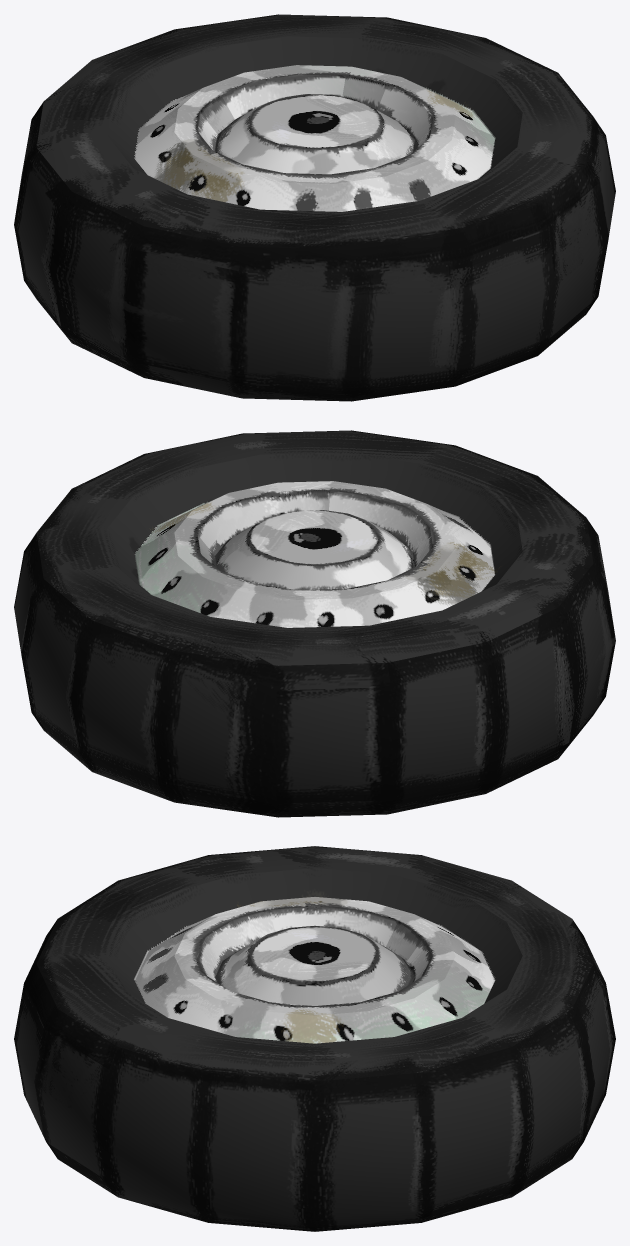
The model's file is P_TIRES.fbx.
3 renders of one model, top to bottom at view 1: azimuth 30°, elevation 25°; view 2: azimuth 150°, elevation 25°; view 3: azimuth 270°, elevation 25°, orthographic.
Visible parts, largest first — view 1: ban; view 2: ban; view 3: ban.
Part boxes in pixels (x1,y1,x2,y2): ban: [14, 14, 615, 401]; ban: [14, 430, 615, 817]; ban: [14, 846, 615, 1231].
Bounding box in the file's own units: 210 × 64.92 × 210.
1 material, 1 textured.
